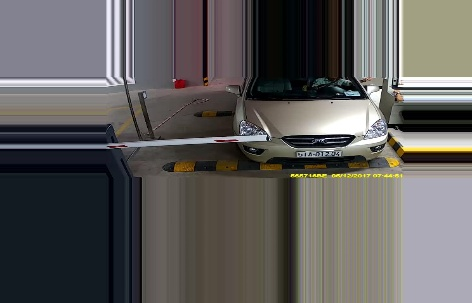plate: (296, 149, 343, 159)
